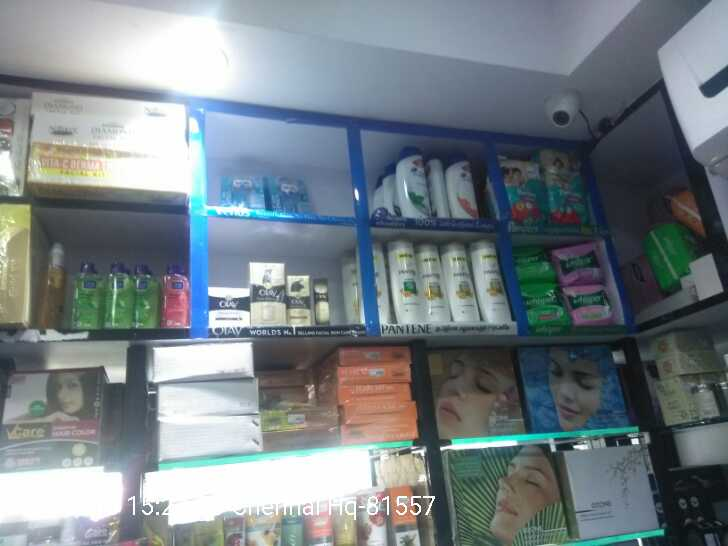venus: (226, 175, 267, 211), (267, 178, 307, 211)
